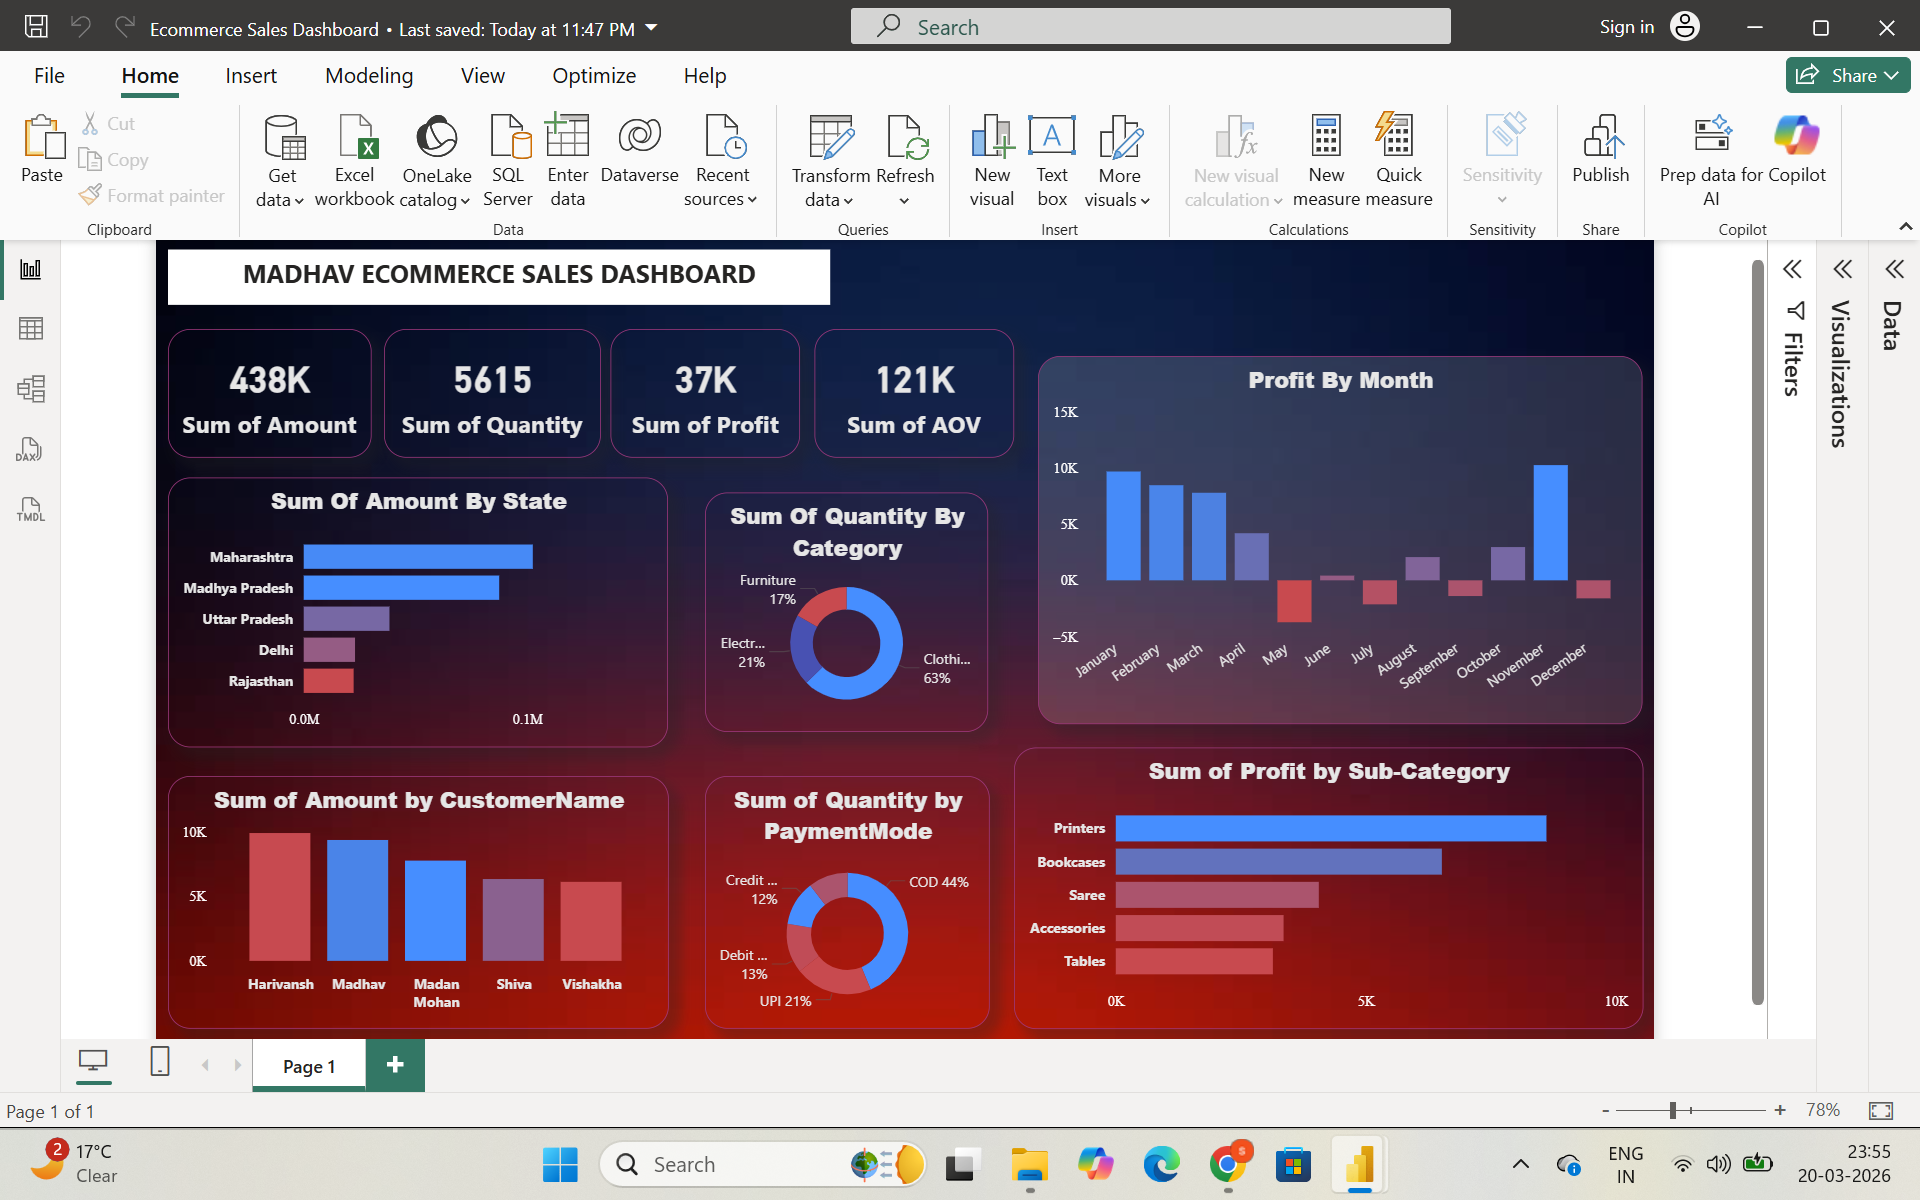

Layout of this report page (visuals, bound fields, positions):
{"tool":"powerbi","page":{"name":"Page 1","canvas":[1280,720],"ordinal":0},"visuals":[{"type":"textbox","box":[10.2,13.6,566.1,47.5],"z":0},{"type":"columnChart","title":"Profit By Month","fields":{"Category":["Orders.Order Date.Variation.Date Hierarchy.Month"],"Y":["Sum(Details.Profit)"]},"box":[754.1,104.9,516.4,314.8],"z":1000},{"type":"barChart","fields":{"Category":["Details.Sub-Category"],"Y":["Sum(Details.Profit)"]},"box":[732.8,439.3,537.7,241],"z":2000},{"type":"donutChart","title":"Sum Of Quantity By Category","fields":{"Category":["Details.Category"],"Y":["Sum(Details.Quantity)"]},"box":[469.6,221.7,242,204.3],"z":3000},{"type":"donutChart","fields":{"Category":["Details.PaymentMode"],"Y":["Sum(Details.Quantity)"]},"box":[469.6,463.8,243.5,215.9],"z":4000},{"type":"card","fields":{"Values":["Sum(Details.Amount)"]},"box":[9.8,82,173.8,109.8],"z":5000},{"type":"card","fields":{"Values":["Sum(Details.Quantity)"]},"box":[195.1,82,185.2,109.8],"z":6000},{"type":"card","fields":{"Values":["Sum(Details.Profit)"]},"box":[388.5,82,162.3,109.8],"z":7000},{"type":"card","fields":{"Values":["Sum(Details.AOV)"]},"box":[562.3,82,170.5,109.8],"z":8000},{"type":"barChart","title":"Sum Of Amount By State","fields":{"Category":["Orders.State"],"Y":["Sum(Details.Amount)"]},"box":[10.1,208.7,427.5,230.4],"z":9001},{"type":"columnChart","fields":{"Category":["Orders.CustomerName"],"Y":["Sum(Details.Amount)"]},"box":[10,464,428,216],"z":9002}]}

Visuals, with their boxes on the page's 1280x720 design canvas (x1, y1, x2, y2). These are canvas units, not pixel positions in the 1920x1200 screenshot, which may show the page scaled, cropped or inside an application window:
textbox: Rect(10, 14, 576, 61)
"Profit By Month" columnChart: Rect(754, 105, 1270, 420)
barChart - Details.Sub-Category x Sum(Details.Profit): Rect(733, 439, 1270, 680)
"Sum Of Quantity By Category" donutChart: Rect(470, 222, 712, 426)
donutChart - Details.PaymentMode x Sum(Details.Quantity): Rect(470, 464, 713, 680)
card - Sum(Details.Amount): Rect(10, 82, 184, 192)
card - Sum(Details.Quantity): Rect(195, 82, 380, 192)
card - Sum(Details.Profit): Rect(388, 82, 551, 192)
card - Sum(Details.AOV): Rect(562, 82, 733, 192)
"Sum Of Amount By State" barChart: Rect(10, 209, 438, 439)
columnChart - Orders.CustomerName x Sum(Details.Amount): Rect(10, 464, 438, 680)
